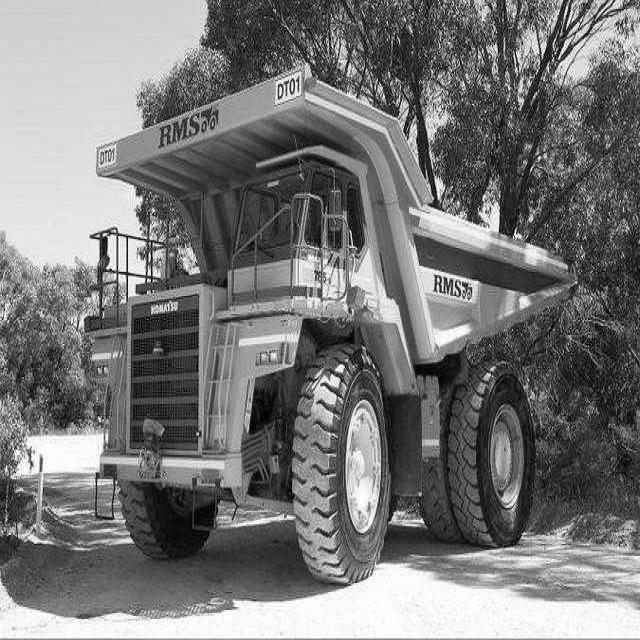Truck: (89, 68, 576, 583)
